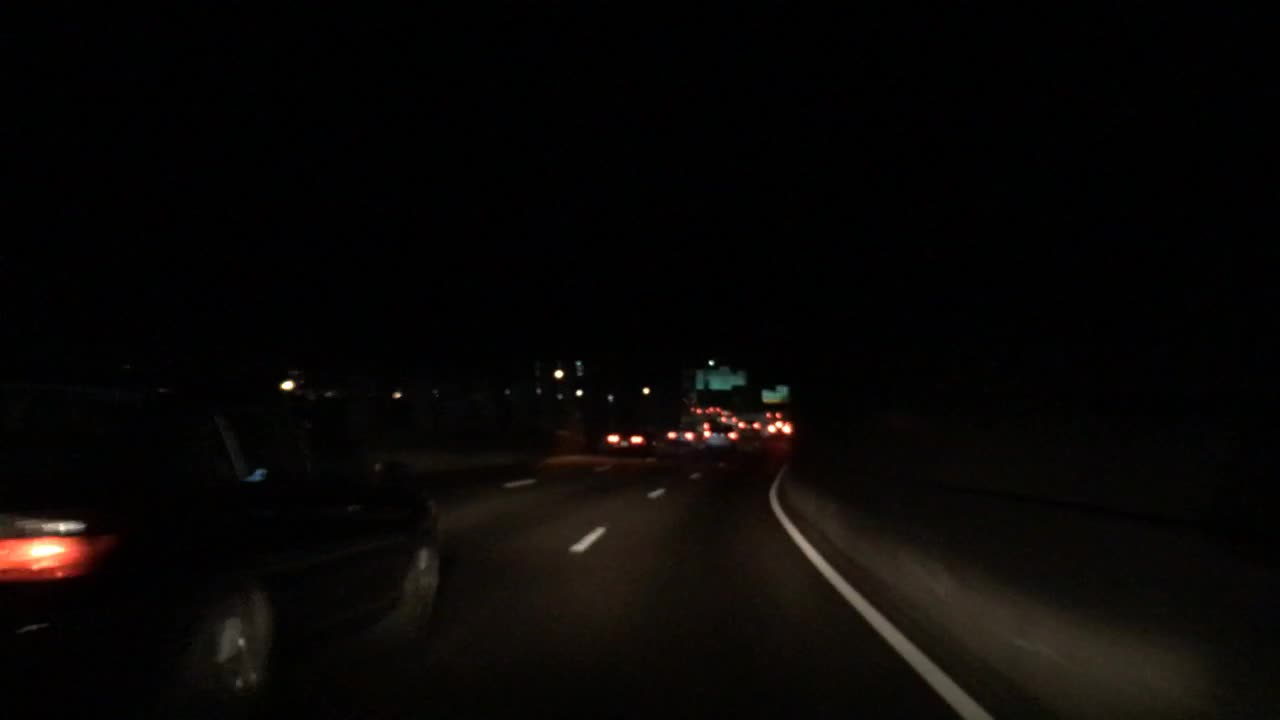car: (1, 352, 451, 717), (603, 421, 658, 455), (664, 419, 703, 447), (702, 419, 739, 448), (765, 418, 795, 440), (737, 418, 761, 437), (717, 415, 738, 426), (764, 409, 782, 419), (704, 406, 721, 413), (719, 408, 732, 415)
traffic sign: (693, 366, 747, 392), (761, 384, 788, 403)
